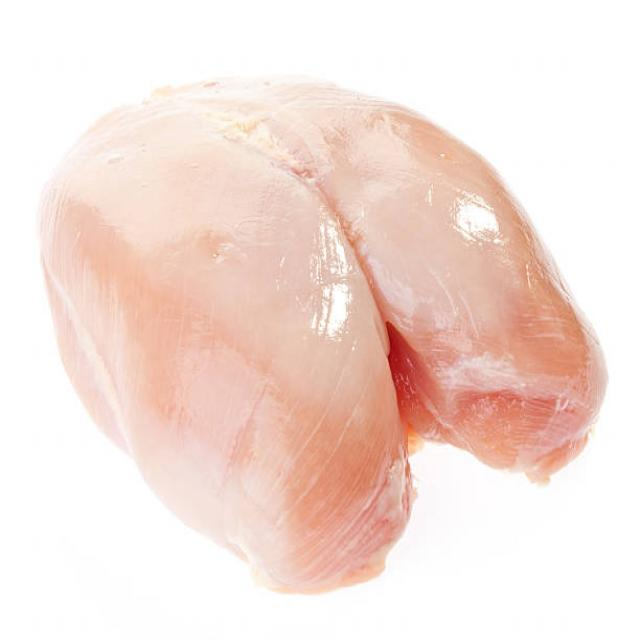Chicken: (5, 75, 598, 618)
